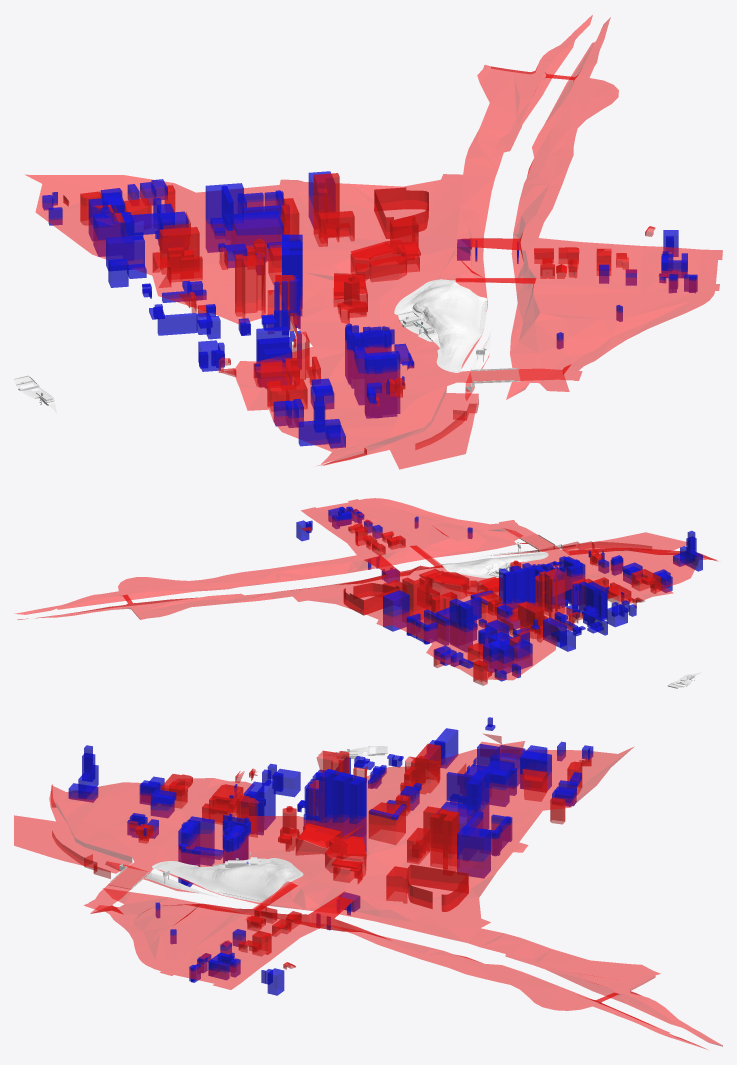
The model's file is 1748610225292-autoExoticsBlend.glb.
The picture shows the model from 3 angles, top to bottom: view 1: azimuth 30°, elevation 25°; view 2: azimuth 150°, elevation 25°; view 3: azimuth 270°, elevation 25°; orthographic projection. The views are drawn at different scales.
Visible parts, largest first — view 1: Model.007, Model, Model.008, Model.010, Model.002, Model.003, Model.004, Model.005, Model.006, Model.009, Bound Poly Mesh.003, Model.001 (+11 smaller); view 2: Model.007, Model.010, Model, Model.003, Model.008, Model.002, Model.009, Model.004, Model.006, Model.001, Bound Poly Mesh.003, Box.075 (+18 smaller); view 3: Model, Model.008, Model.007, Model.010, Model.006, Model.003, Model.005, Model.004, Model.002, Model.009, Bound Poly Mesh.003, Model.001 (+16 smaller).
Boxes of the visible parts, bbox=[...] form: Model.007: bbox=[466, 247, 722, 399]; Model: bbox=[269, 357, 526, 469]; Model.008: bbox=[279, 129, 549, 241]; Model.010: bbox=[477, 15, 618, 207]; Model.002: bbox=[93, 212, 292, 324]; Model.003: bbox=[25, 174, 298, 254]; Model.004: bbox=[203, 175, 397, 304]; Model.005: bbox=[275, 274, 439, 379]; Model.006: bbox=[324, 208, 535, 304]; Model.009: bbox=[466, 184, 662, 278]; Bound Poly Mesh.003: bbox=[394, 279, 491, 386]; Model.001: bbox=[218, 331, 355, 410]; Model.007: bbox=[301, 498, 536, 557]; Model.010: bbox=[14, 563, 304, 619]; Model: bbox=[529, 532, 717, 590]; Model.003: bbox=[392, 614, 555, 685]; Model.008: bbox=[229, 572, 438, 626]; Model.002: bbox=[481, 568, 583, 649]; Model.009: bbox=[275, 524, 409, 584]; Model.004: bbox=[397, 573, 519, 623]; Model.006: bbox=[340, 545, 479, 598]; Model.001: bbox=[568, 573, 673, 607]; Bound Poly Mesh.003: bbox=[440, 550, 548, 578]; Box.075: bbox=[503, 566, 535, 629]; Model: bbox=[14, 774, 193, 886]; Model.008: bbox=[375, 812, 548, 954]; Model.007: bbox=[84, 874, 269, 989]; Model.010: bbox=[380, 942, 722, 1049]; Model.006: bbox=[250, 836, 421, 921]; Model.003: bbox=[455, 733, 633, 845]; Model.005: bbox=[160, 780, 341, 866]; Model.004: bbox=[306, 789, 494, 862]; Model.002: bbox=[316, 743, 475, 824]; Model.009: bbox=[244, 897, 422, 969]; Bound Poly Mesh.003: bbox=[144, 858, 303, 903]; Model.001: bbox=[171, 768, 258, 837].
Bounding box in the file's own units: 1312 × 197 × 1127.
